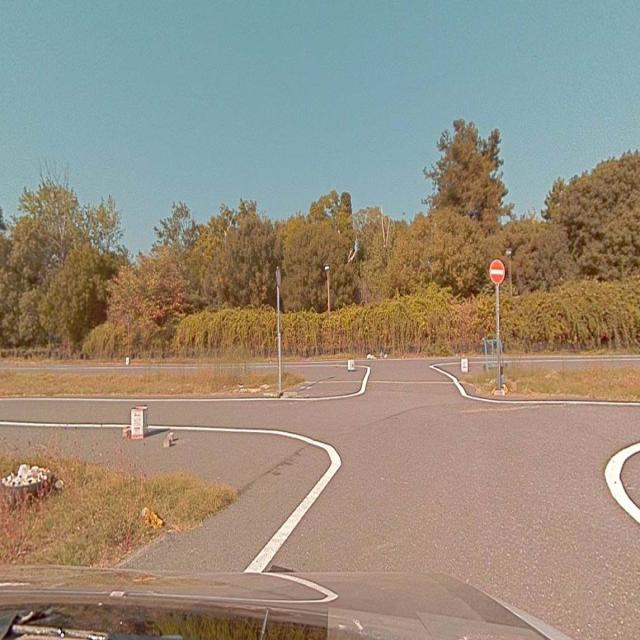girisyok: (490, 260, 505, 283)
